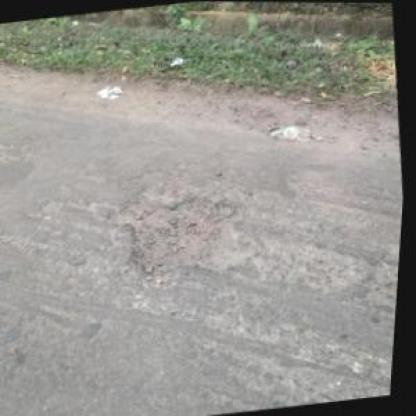pothole: (104, 186, 262, 287)
